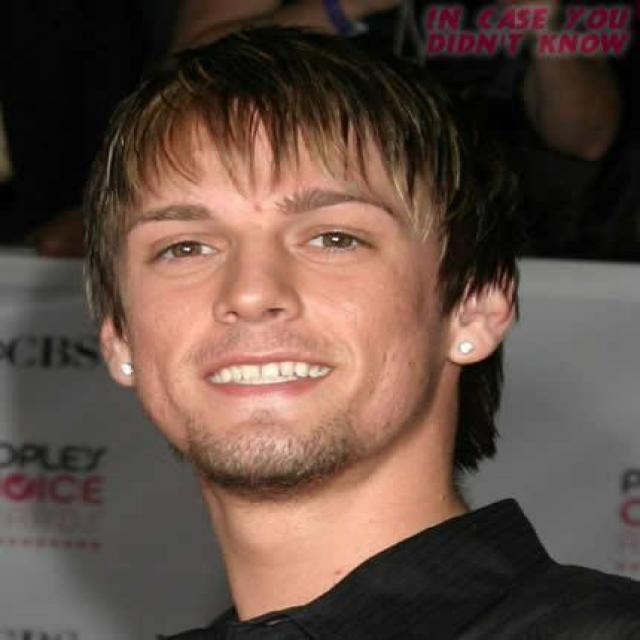live: (94, 108, 537, 498)
